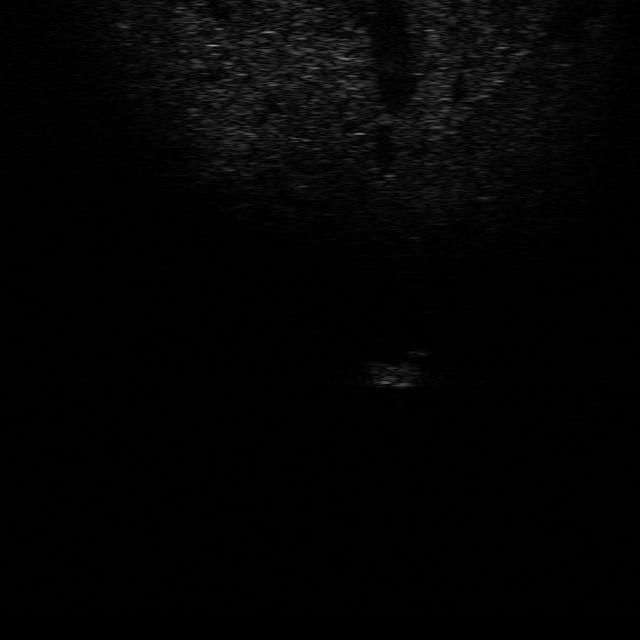cube: (359, 360, 425, 389)
